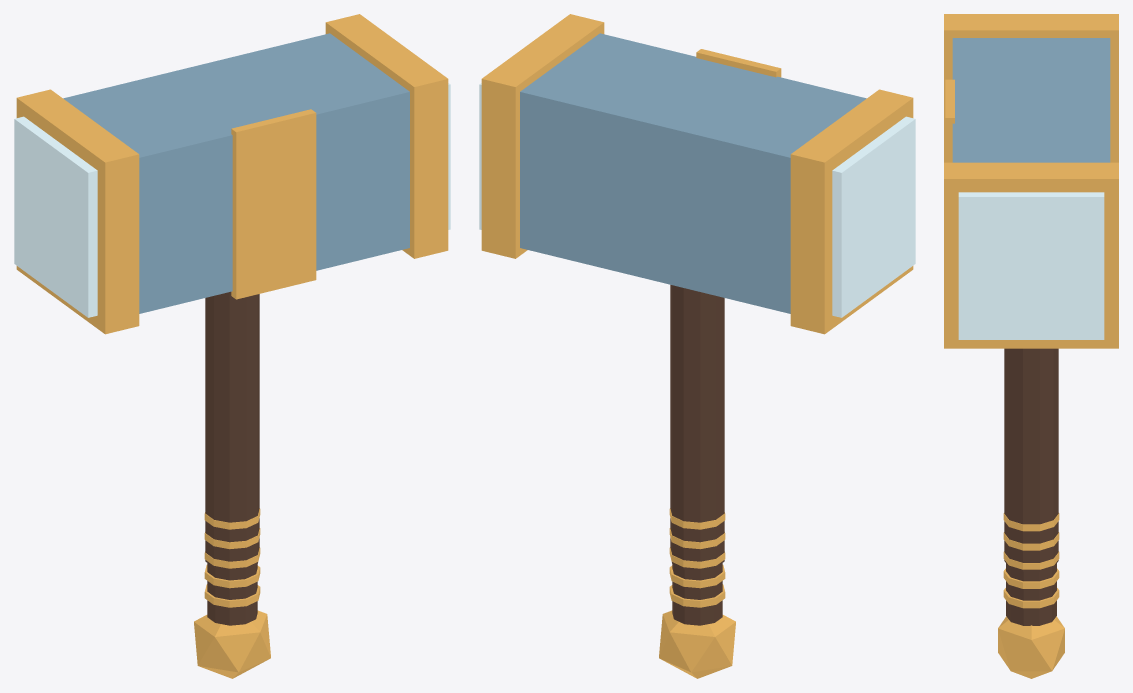
File: forge-hammer.glb
3 views of the same model, side by side, from view 1: azimuth 30°, elevation 25°; view 2: azimuth 150°, elevation 25°; view 3: azimuth 270°, elevation 25° (orthographic).
Parts seen in each view (by area): view 1: forge-hammer; view 2: forge-hammer; view 3: forge-hammer.
Boxes of the visible parts, x1=… form: forge-hammer: x1=14, y1=14, x2=450, y2=678; forge-hammer: x1=479, y1=14, x2=915, y2=678; forge-hammer: x1=944, y1=14, x2=1118, y2=678.
Size of the model in its own units: 0.68 by 1.06 by 0.288.
